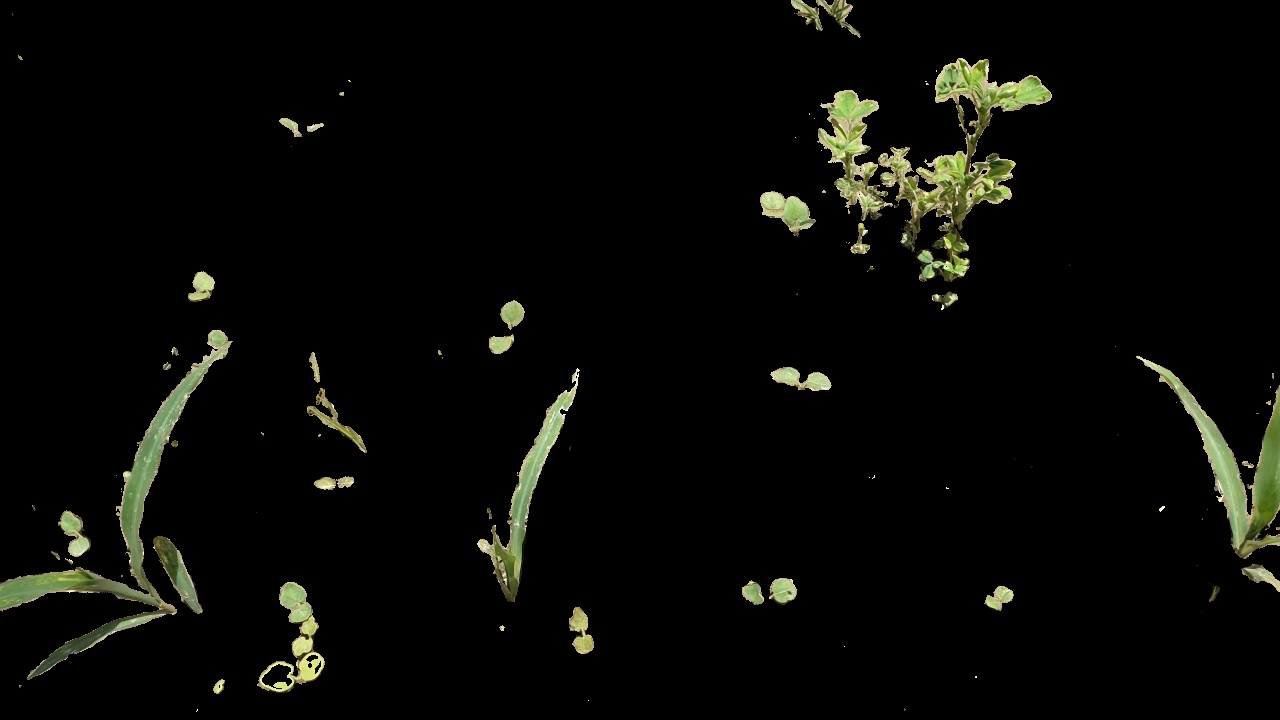crop: (105, 347, 234, 628), (1131, 354, 1280, 593), (478, 371, 580, 601)
weed: (819, 41, 1052, 308), (253, 570, 330, 694), (754, 189, 816, 238), (769, 352, 839, 394), (737, 567, 801, 608), (486, 296, 525, 360), (554, 607, 603, 653), (274, 107, 330, 142), (58, 507, 94, 558), (183, 267, 213, 309), (980, 581, 1018, 612), (315, 475, 359, 491)
